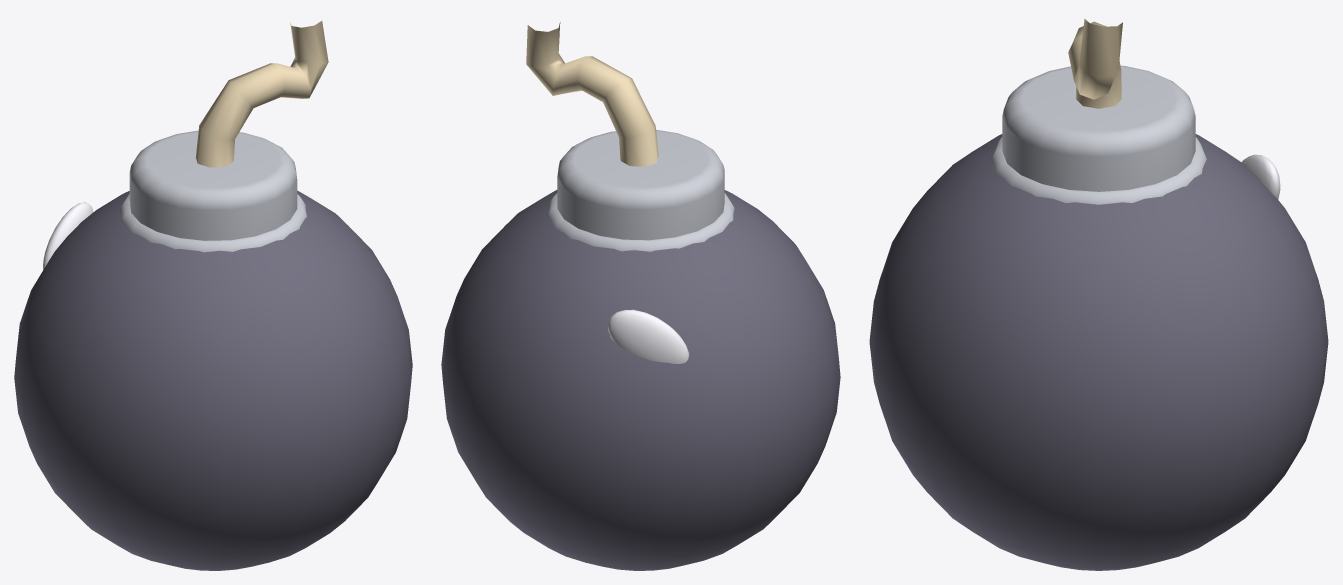
Rendered from VeggieBomb.glb.
The picture shows the model from 3 angles, left to right: view 1: azimuth 30°, elevation 25°; view 2: azimuth 150°, elevation 25°; view 3: azimuth 270°, elevation 25°; orthographic projection. The views are drawn at different scales.
Visible parts, largest first — view 1: BombBody, BombCap, BombFuse, BombShine; view 2: BombBody, BombCap, BombFuse, BombShine; view 3: BombBody, BombCap, BombFuse, BombShine.
Boxes of the visible parts, x1,y1,x2,y2 form: BombBody: [14, 190, 412, 570]; BombCap: [120, 130, 306, 252]; BombFuse: [195, 21, 328, 167]; BombShine: [43, 202, 93, 269]; BombBody: [441, 190, 840, 570]; BombCap: [547, 129, 734, 251]; BombFuse: [526, 22, 658, 166]; BombShine: [608, 309, 689, 363]; BombBody: [869, 134, 1328, 570]; BombCap: [991, 65, 1206, 204]; BombFuse: [1068, 19, 1122, 108]; BombShine: [1241, 154, 1280, 199].
Size of the model in its own units: 1.9 by 2.67 by 1.9.
